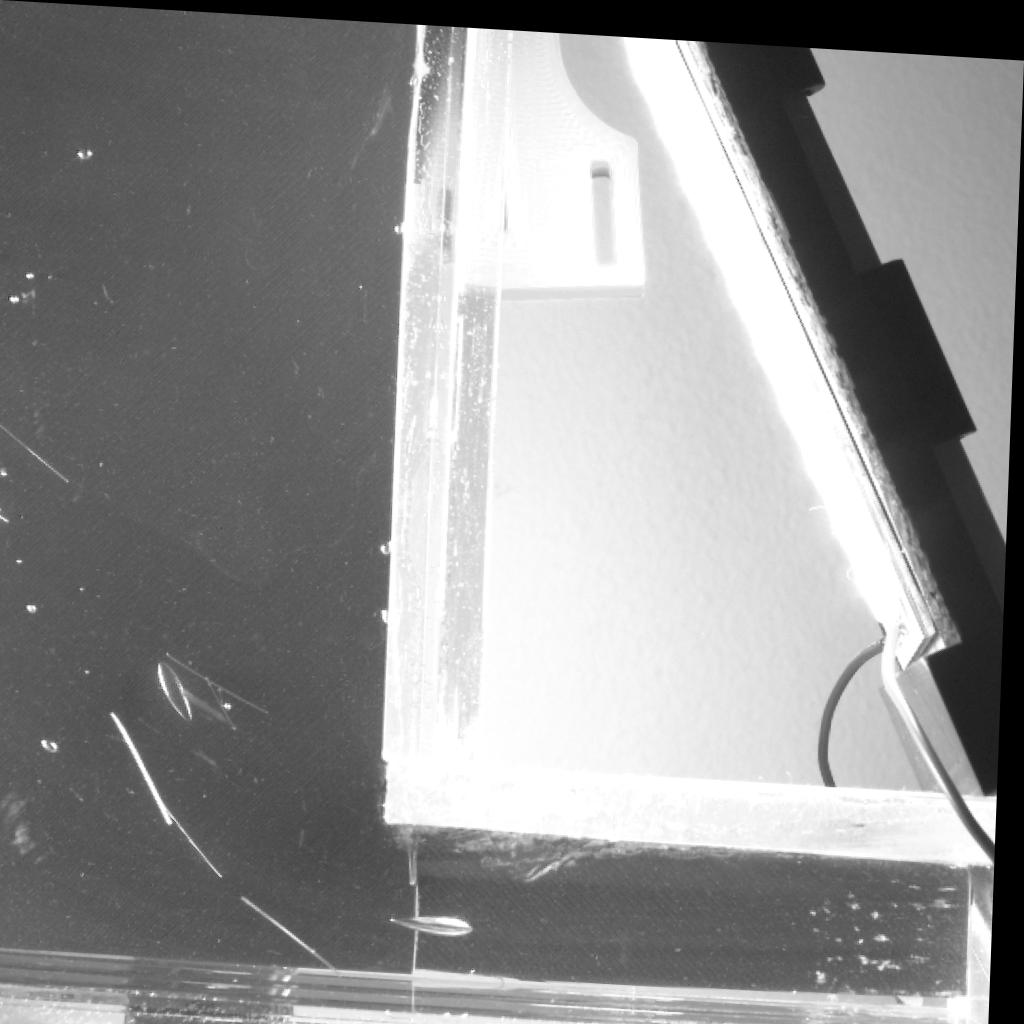Fiber: (244, 892, 349, 971), (115, 711, 181, 826), (173, 647, 285, 712), (0, 418, 77, 486), (168, 799, 229, 881), (0, 509, 17, 530)
